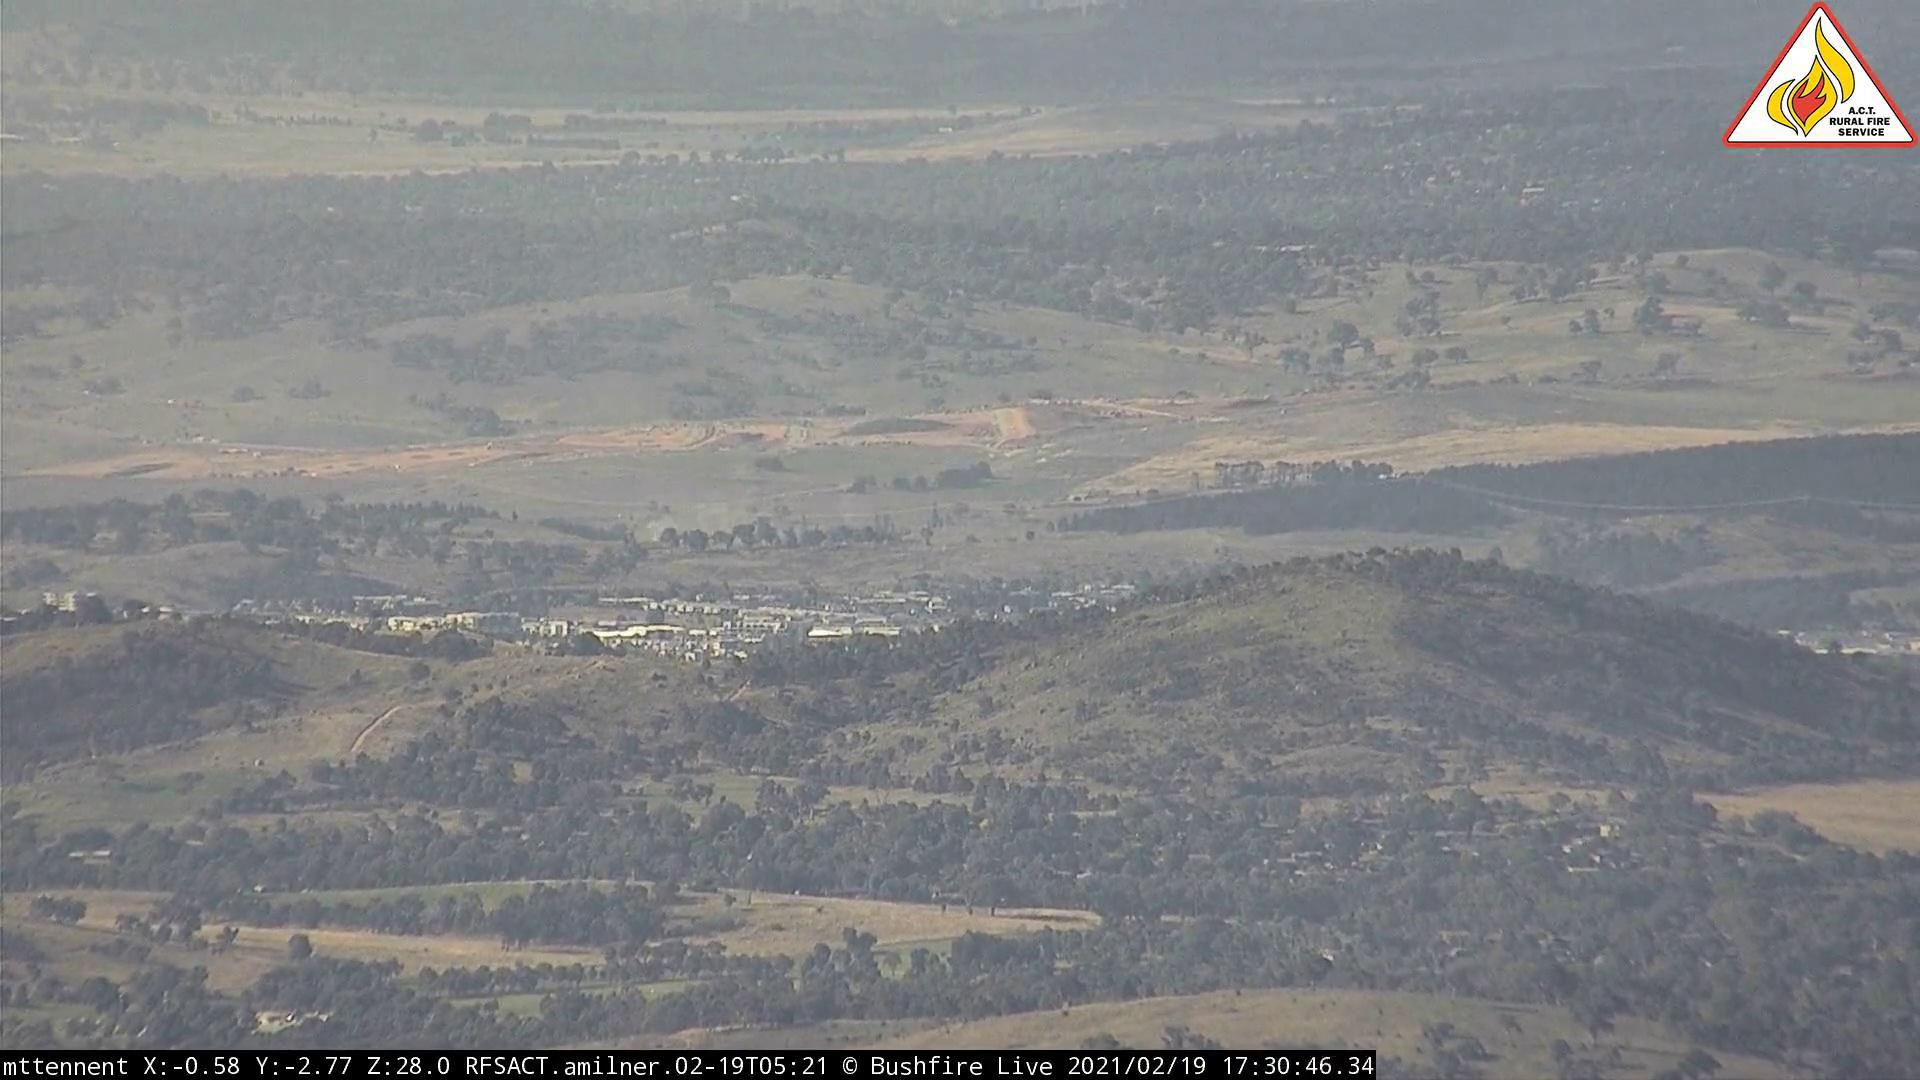Smoke: (654, 456, 825, 541)
